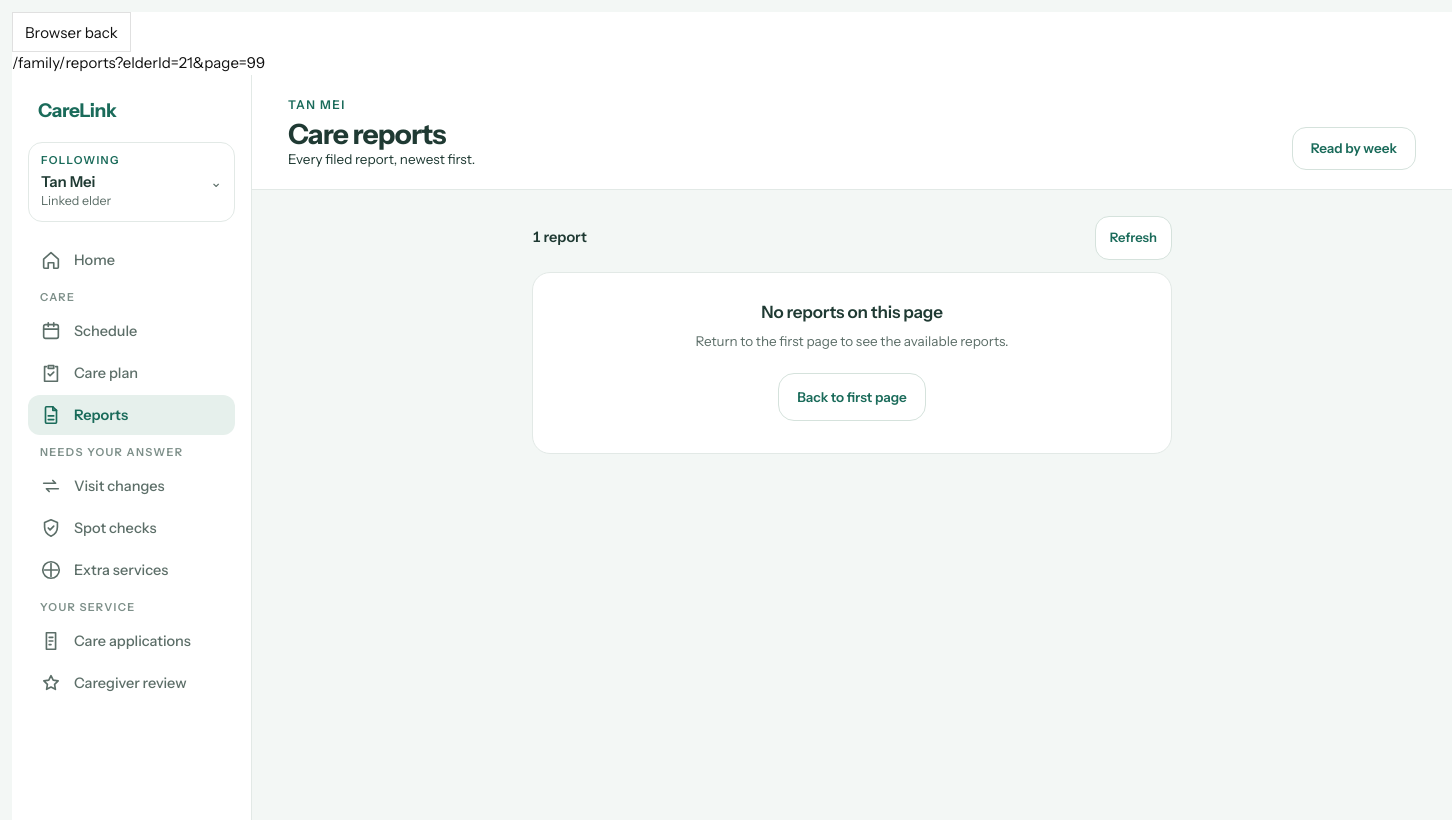
Family care report list › distinguishes the page empty state from a failed request
Expected: the heading "No reports on this page" is shown, [761,302,943,322]
Click the button "Back to first page".
click(852, 397)  # box [778,373,926,421]
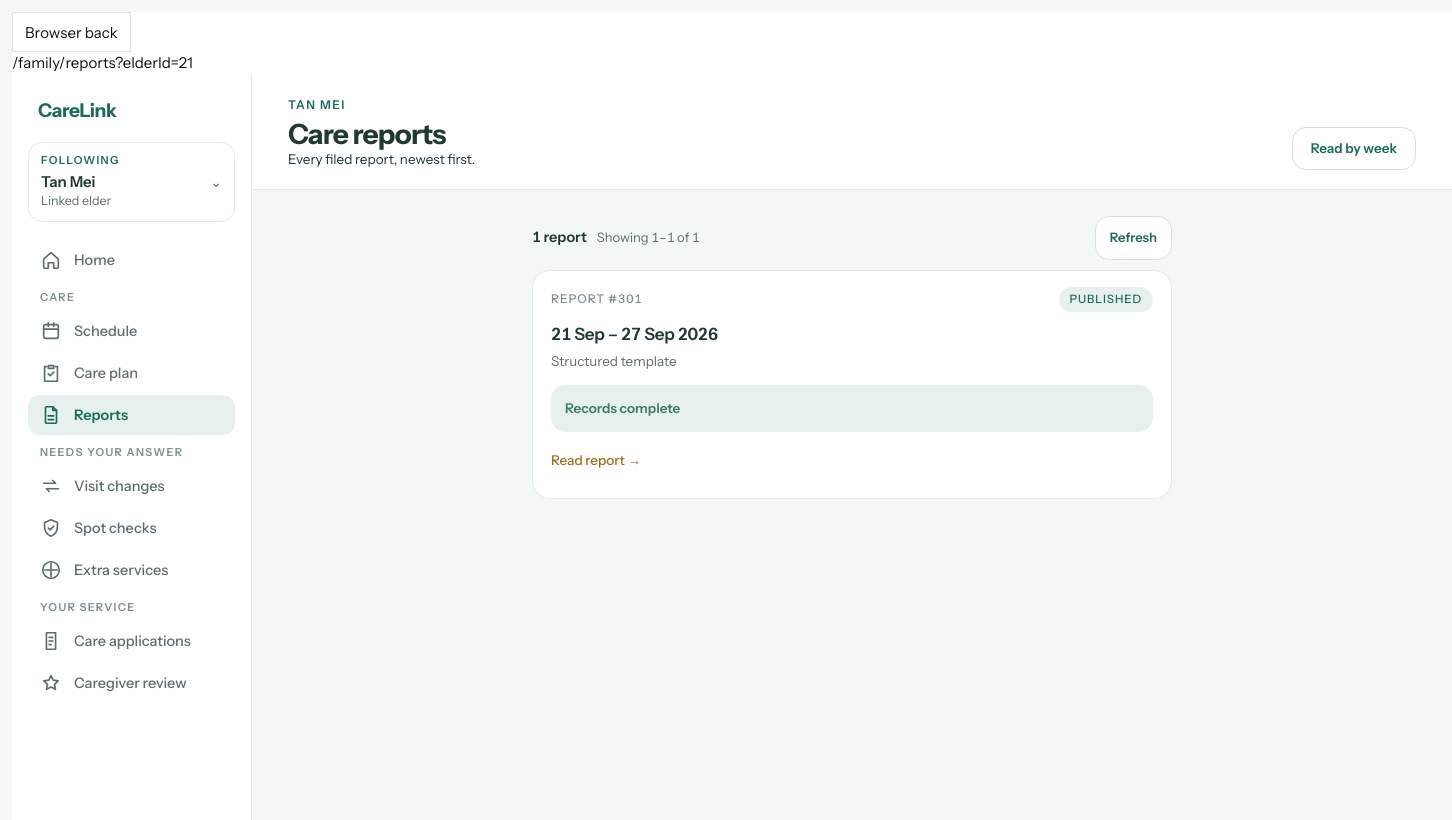
Expected: the text "Records complete" is shown, [565,400,680,416]
